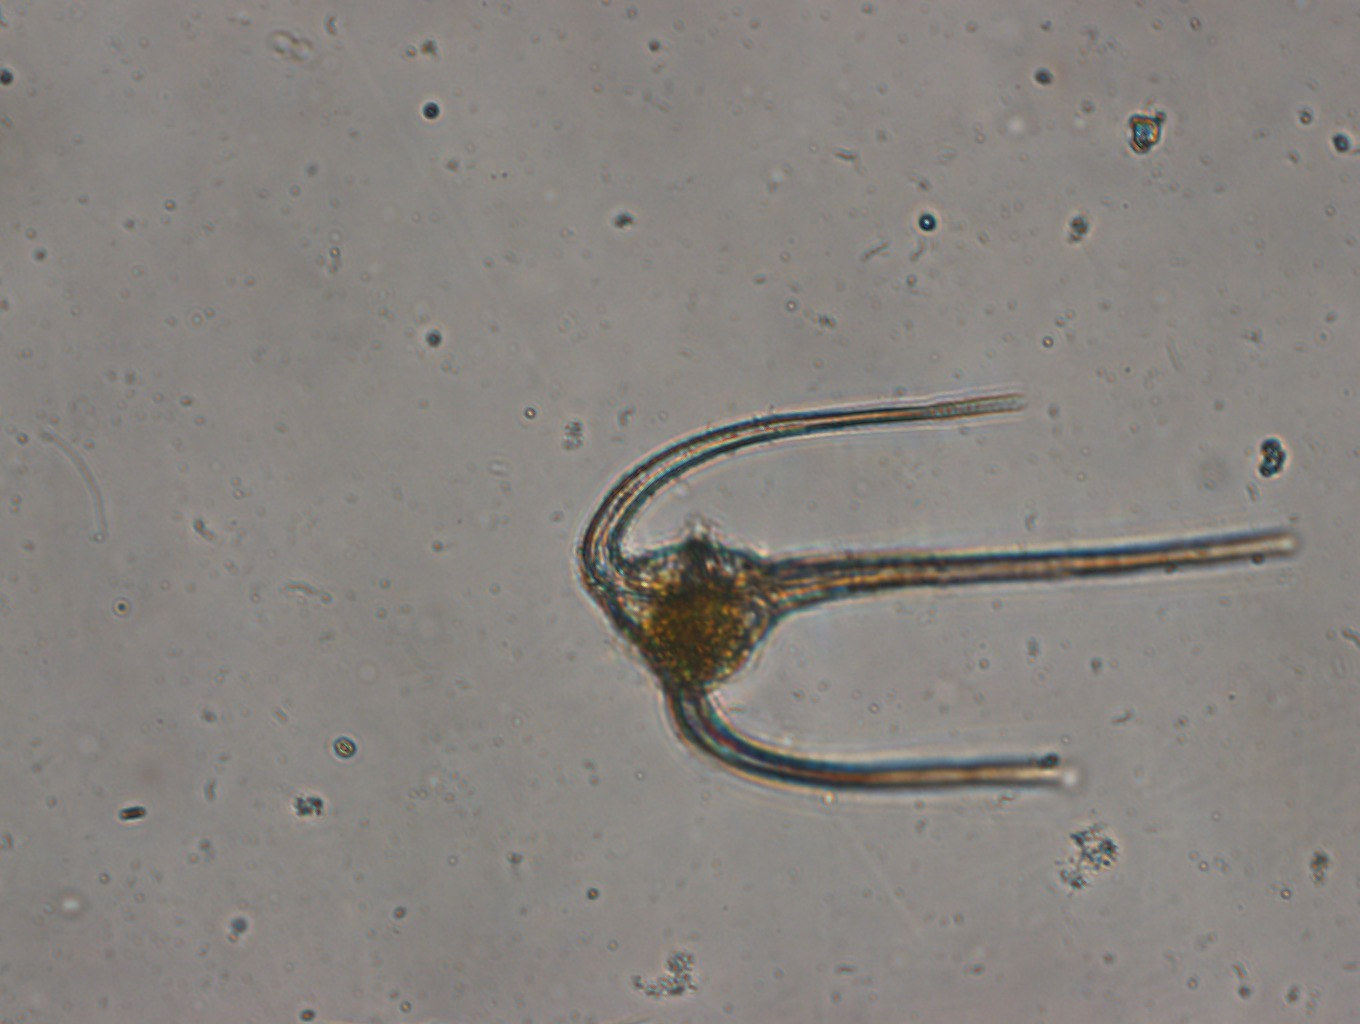ceratium trichoceros: (568, 383, 1309, 800)
